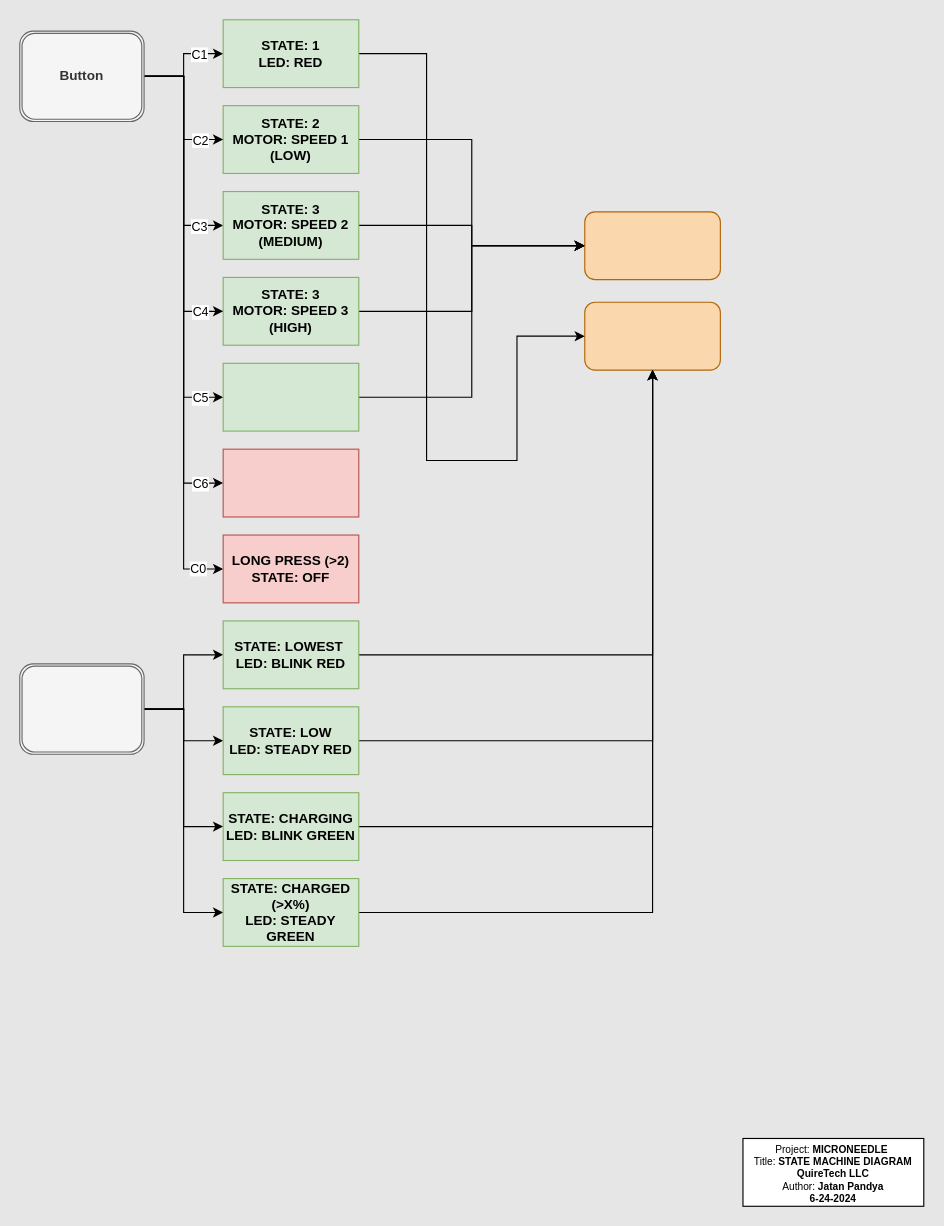
The diagram is 944 pixels wide and 1226 high, and some of its shapes have lost their labels. The centre of each missing label's shape, as x and y in pixels:
"Battery" belongs at [81,708].
"LED ARRAY" belongs at [652,335].
"MOTOR" belongs at [652,245].
"STATE: 4 MOTOR: SPEED 4 (PULSATING)" belongs at [290,396].
"STATE: OFF" belongs at [290,482].
